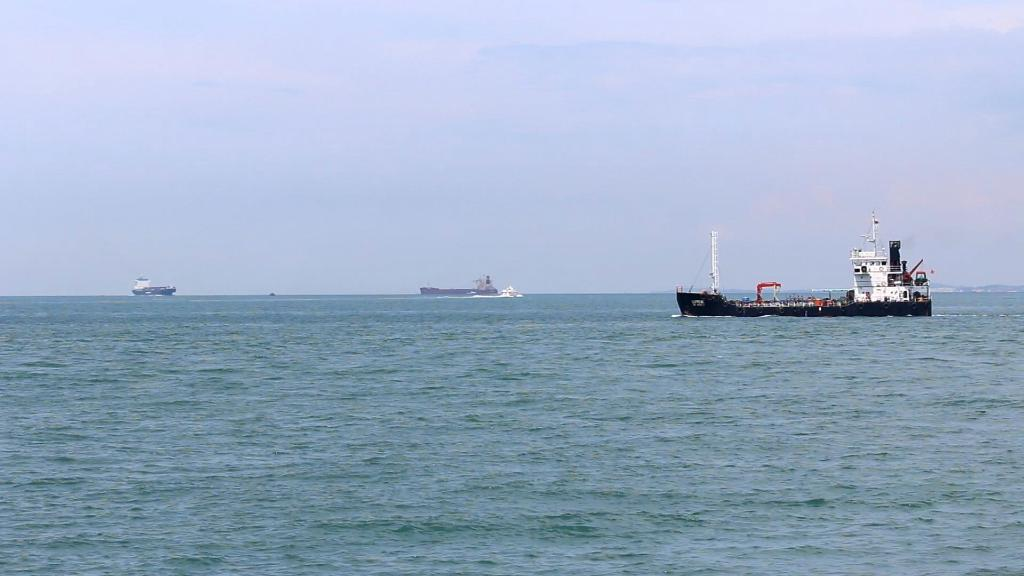PassengerShip: (496, 282, 522, 298)
